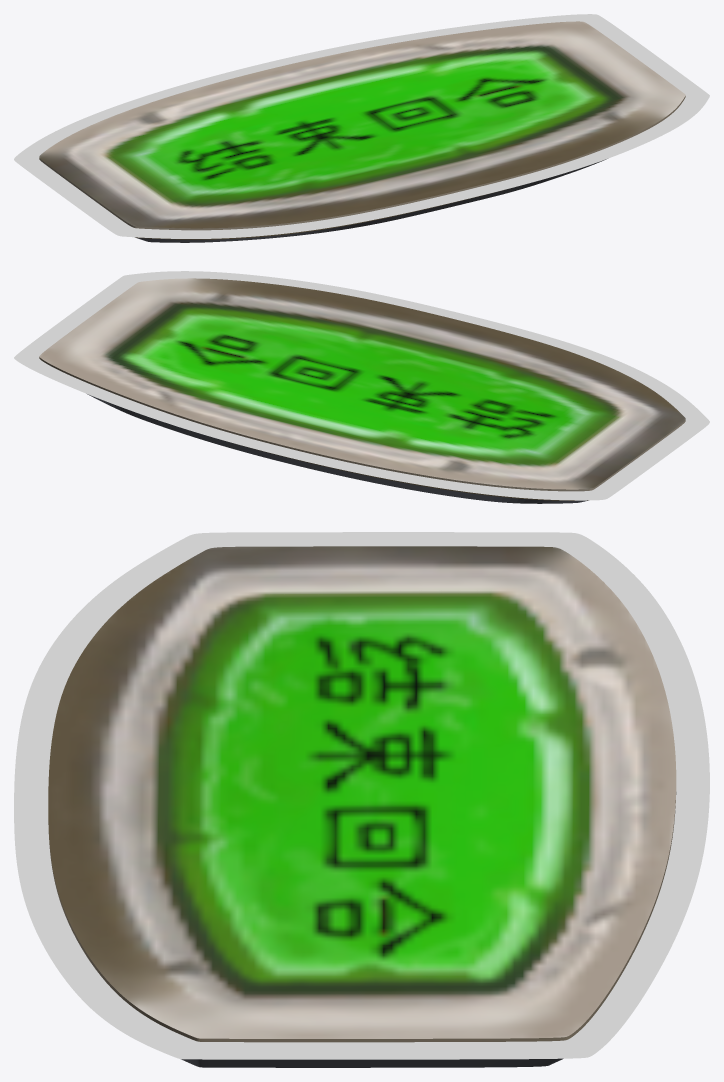
Rendered from TurnEndButton.glb.
The picture shows the model from 3 angles, top to bottom: view 1: azimuth 30°, elevation 25°; view 2: azimuth 150°, elevation 25°; view 3: azimuth 270°, elevation 25°; orthographic projection. The views are drawn at different scales.
Visible parts, largest first — view 1: TurnEndButton, box; view 2: TurnEndButton, box; view 3: TurnEndButton, box.
Part boxes in pixels (x1,y1,x2,y2): TurnEndButton: (39, 21, 685, 242); box: (14, 14, 709, 238); TurnEndButton: (39, 278, 685, 503); box: (14, 271, 709, 500); TurnEndButton: (48, 546, 676, 1067); box: (14, 532, 709, 1059).
Bounding box in the file's own units: 4.17 × 0.1142 × 2.33.
2 materials, 1 textured.
